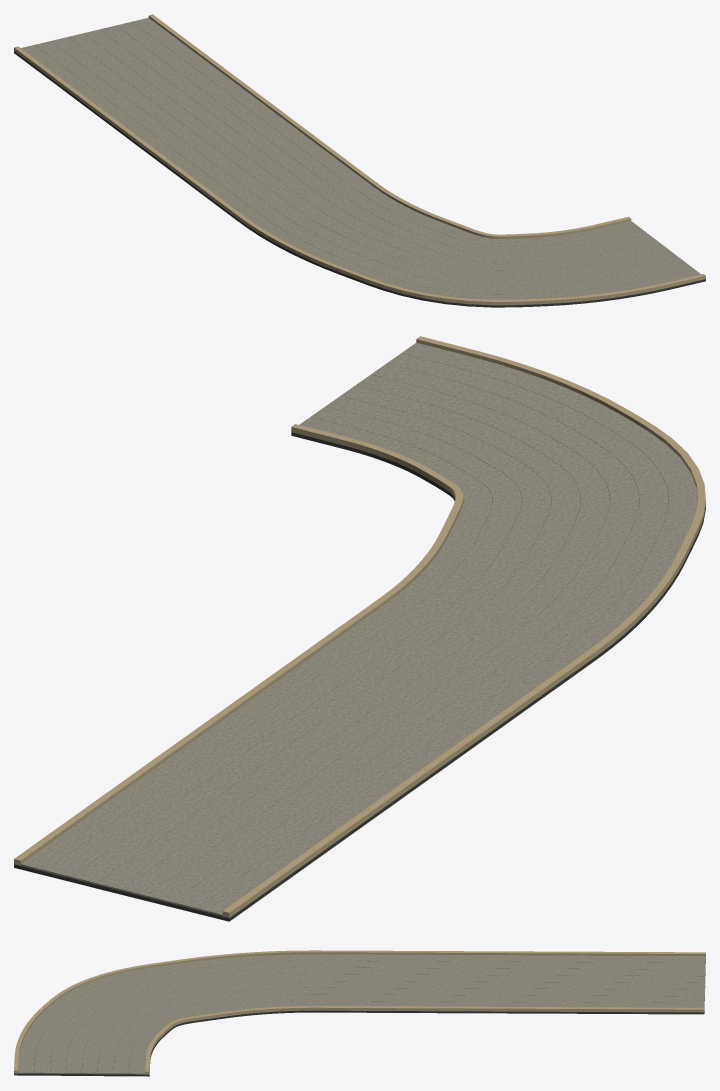
File: track_main_14.fbx
3 renders of one model, top to bottom at view 1: azimuth 30°, elevation 25°; view 2: azimuth 150°, elevation 25°; view 3: azimuth 270°, elevation 25°, orthographic. The views are drawn at different scales.
Parts seen in each view (by area): view 1: roman_concrete.001, travertine.001, basalt.001; view 2: roman_concrete.001, travertine.001, basalt.001; view 3: roman_concrete.001, travertine.001, basalt.001.
Boxes of the visible parts, x1=… form: roman_concrete.001: x1=21, y1=18, x2=700, y2=299; travertine.001: x1=14, y1=14, x2=705, y2=305; basalt.001: x1=14, y1=51, x2=705, y2=307; roman_concrete.001: x1=21, y1=342, x2=697, y2=916; travertine.001: x1=14, y1=336, x2=705, y2=917; basalt.001: x1=14, y1=432, x2=705, y2=921; roman_concrete.001: x1=18, y1=954, x2=705, y2=1074; travertine.001: x1=14, y1=950, x2=705, y2=1074; basalt.001: x1=14, y1=961, x2=705, y2=1076.
Size of the model in its own units: 216570 by 522433 by 4000.
